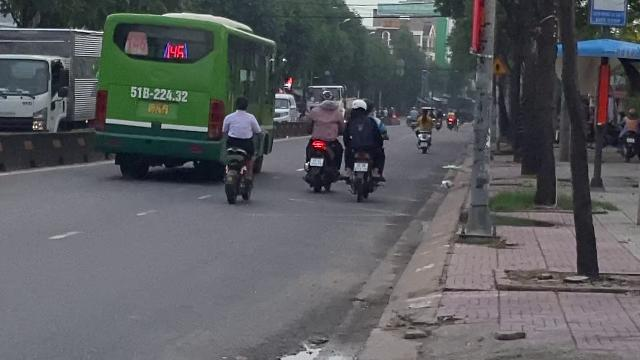helmet: (350, 99, 368, 115), (319, 90, 335, 104)
licenseplate: (354, 162, 368, 172), (311, 158, 323, 166)
motorcyclist: (343, 97, 392, 203), (220, 95, 266, 203), (301, 89, 343, 193)
nohelmet: (233, 96, 249, 112)
